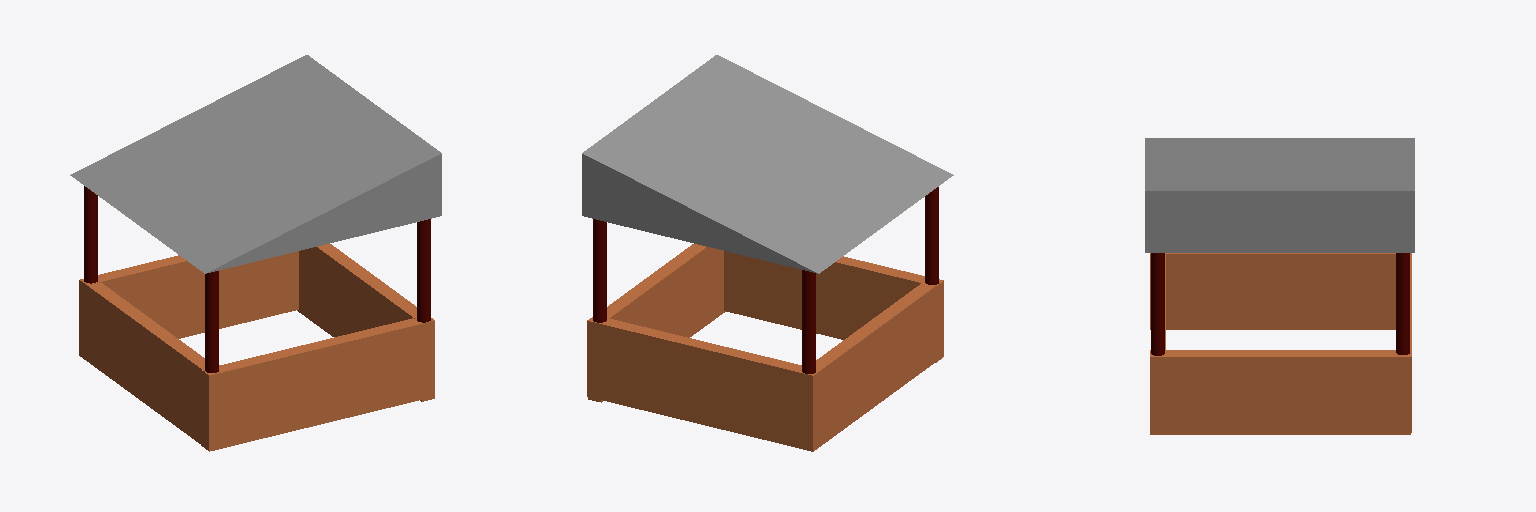
File: Shop.obj
3 views of the same model, side by side, from view 1: azimuth 30°, elevation 25°; view 2: azimuth 150°, elevation 25°; view 3: azimuth 270°, elevation 25° (orthographic).
Visible parts, largest first — view 1: Cube.004_Cube.005, Cube_Cube.001, Cube.002_Cube.003, Cube.003_Cube.004, Cube.001_Cube.002, Cylinder.001, Cylinder.003, Cylinder.002; view 2: Cube.004_Cube.005, Cube.003_Cube.004, Cube_Cube.001, Cube.002_Cube.003, Cube.001_Cube.002, Cylinder.002, Cylinder, Cylinder.003; view 3: Cube.004_Cube.005, Cube.001_Cube.002, Cube.002_Cube.003, Cube.003_Cube.004, Cylinder.001, Cylinder, Cube_Cube.001.
Part boxes in pixels (x1,y1,x2,y2): Cube.004_Cube.005: (70,55,441,273); Cube_Cube.001: (201,318,421,451); Cube.002_Cube.003: (87,282,223,450); Cube.003_Cube.004: (79,251,298,360); Cube.001_Cube.002: (297,244,434,401); Cylinder.001: (417,219,430,322); Cylinder.003: (205,271,218,372); Cylinder.002: (84,186,97,283); Cube.004_Cube.005: (582,55,953,273); Cube.003_Cube.004: (587,317,820,451); Cube_Cube.001: (724,251,943,362); Cube.002_Cube.003: (807,279,943,451); Cube.001_Cube.002: (588,244,725,402); Cylinder.002: (802,270,815,373); Cylinder: (593,219,606,322); Cylinder.003: (925,187,938,284); Cube.004_Cube.005: (1145,138,1414,252); Cube.001_Cube.002: (1150,350,1410,434); Cube.002_Cube.003: (1150,253,1395,329); Cube.003_Cube.004: (1396,253,1411,432); Cylinder.001: (1151,253,1164,355); Cylinder: (1396,253,1409,354); Cube_Cube.001: (1151,254,1165,432).
Size of the model in its own units: 4.42 by 4.39 by 4.36.